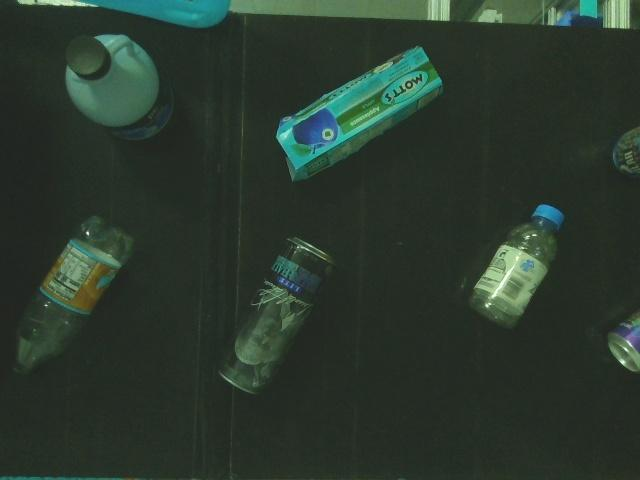cardboard: (274, 43, 444, 182)
metal: (218, 236, 336, 398), (607, 306, 640, 377), (607, 126, 640, 183)
plastic: (7, 211, 139, 377), (61, 31, 180, 146), (469, 202, 566, 332)
